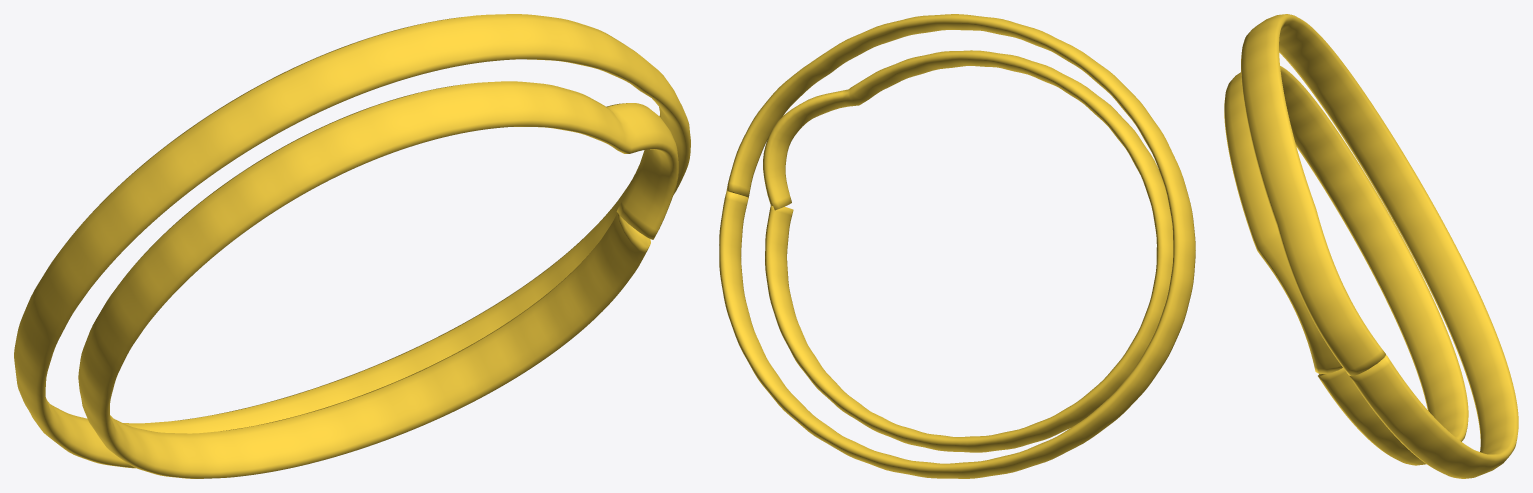
Rendered from hairtie_y.glb.
The picture shows the model from 3 angles, left to right: view 1: azimuth 30°, elevation 25°; view 2: azimuth 150°, elevation 25°; view 3: azimuth 270°, elevation 25°; orthographic projection. The views are drawn at different scales.
Parts seen in each view (by area): view 1: hairtie_0, hairtie_1; view 2: hairtie_1, hairtie_0; view 3: hairtie_1, hairtie_0.
Part boxes in pixels (box(x1,y1,x2,y2)): hairtie_0: box(78, 81, 678, 478); hairtie_1: box(14, 14, 690, 468); hairtie_1: box(719, 14, 1195, 478); hairtie_0: box(763, 50, 1173, 452); hairtie_1: box(1241, 14, 1518, 478); hairtie_0: box(1224, 66, 1468, 465).
Bounding box in the file's own units: 0.1064 × 0.0841 × 0.0562.
